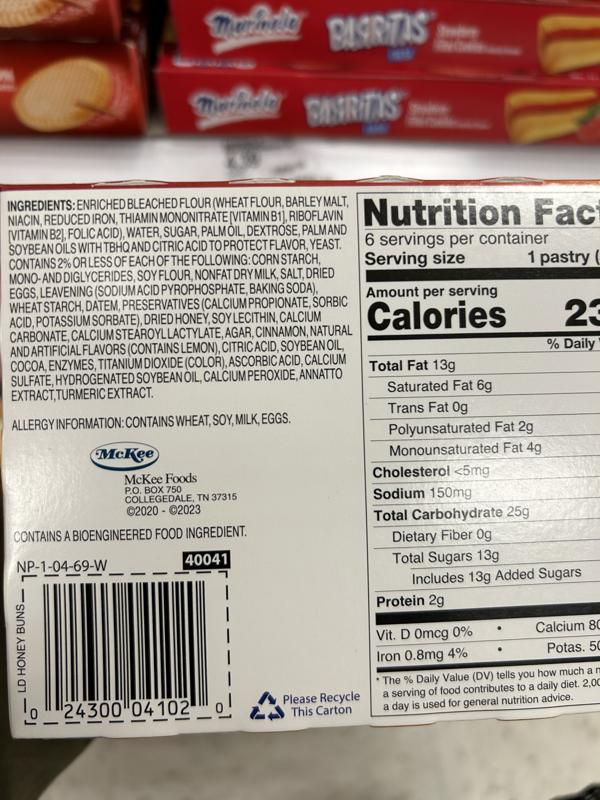ingredients: (5, 194, 354, 403)
